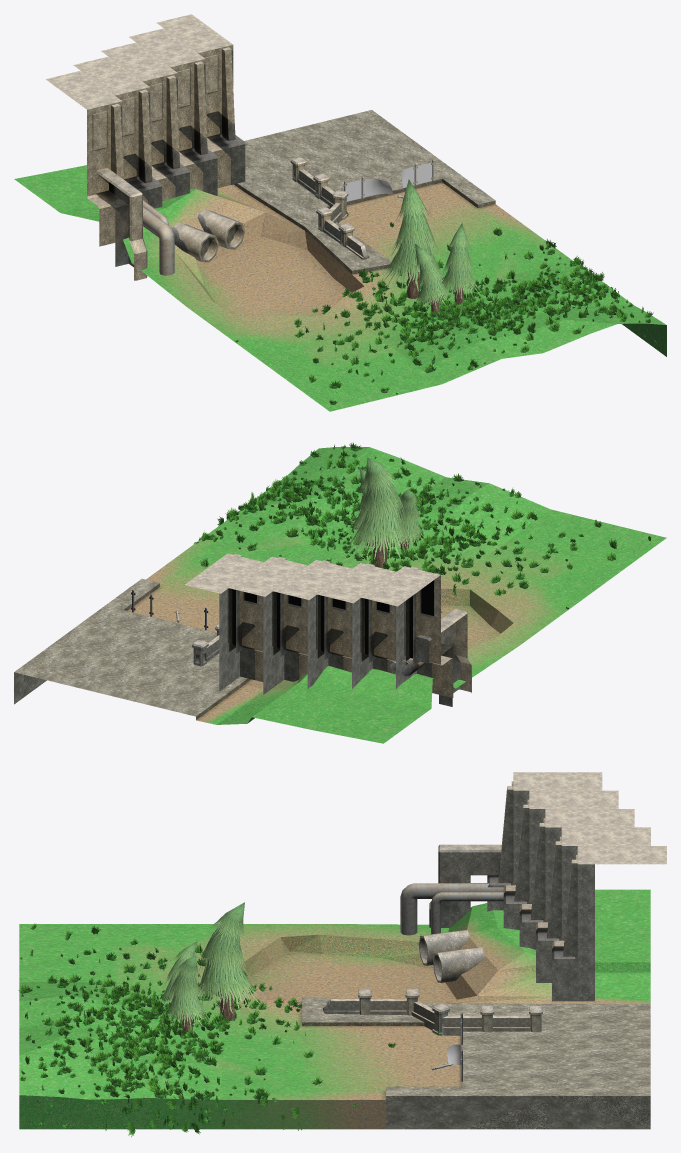
Rendered from BACKGROUND.glb.
The picture shows the model from 3 angles, top to bottom: view 1: azimuth 30°, elevation 25°; view 2: azimuth 150°, elevation 25°; view 3: azimuth 270°, elevation 25°; orthographic projection. The views are drawn at different scales.
Parts seen in each view (by area): view 1: bckg_hill.001, bckg_building, bckg_grass, tree, bckg_building.001, tree.002, tree.001, bckg_chainlink_fence, bckg_sewage_pipe.001, bckg_sewage_pipe, bckg_pipe.000; view 2: bckg_hill.001, bckg_building, bckg_grass, tree, bckg_building.001, tree.001, wall.002, tree.002; view 3: bckg_hill.001, bckg_building, bckg_grass, tree, bckg_building.001, tree.002, bckg_pipe.000, bckg_sewage_pipe, bckg_sewage_pipe.001, bckg_pipe.001, wall, wall.002 (+4 smaller).
Boxes of the visible parts, <box> form: bckg_hill.001: <box>14,110,666,411</box>; bckg_building: <box>46,14,245,246</box>; bckg_grass: <box>235,211,656,404</box>; tree: <box>383,179,444,298</box>; bckg_building.001: <box>96,167,147,280</box>; tree.002: <box>442,223,479,304</box>; tree.001: <box>414,244,452,313</box>; bckg_chainlink_fence: <box>346,162,432,201</box>; bckg_sewage_pipe.001: <box>171,223,218,262</box>; bckg_sewage_pipe: <box>197,210,245,249</box>; bckg_pipe.000: <box>143,206,174,275</box>; bckg_hill.001: <box>14,447,666,743</box>; bckg_building: <box>185,553,453,697</box>; bckg_grass: <box>194,442,650,612</box>; tree: <box>346,457,411,568</box>; bckg_building.001: <box>415,609,471,706</box>; tree.001: <box>388,490,424,549</box>; wall.002: <box>192,635,219,666</box>; tree.002: <box>349,468,373,546</box>; bckg_hill.001: <box>19,889,650,1129</box>; bckg_building: <box>487,772,666,1001</box>; bckg_grass: <box>18,923,440,1137</box>; tree: <box>197,902,260,1020</box>; bckg_building.001: <box>429,844,501,927</box>; tree.002: <box>164,955,209,1033</box>; bckg_pipe.000: <box>400,883,503,935</box>; bckg_sewage_pipe: <box>433,947,485,982</box>; bckg_sewage_pipe.001: <box>418,930,469,965</box>; bckg_pipe.001: <box>431,892,503,934</box>; wall: <box>443,1006,494,1035</box>; wall.002: <box>492,1006,542,1032</box>.
Bounding box in the file's own units: 415 × 187 × 599.
5 materials, 5 textured.
